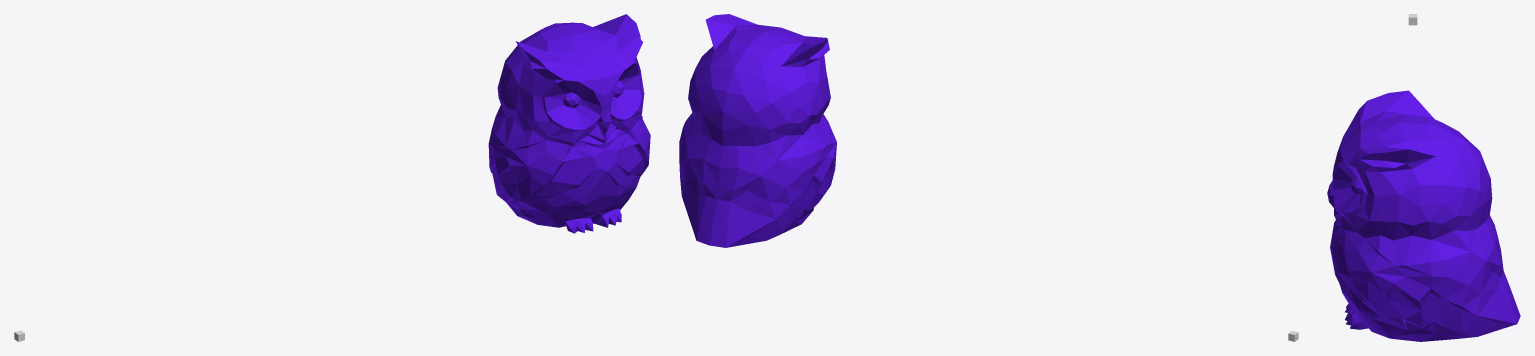
File: owl-web.glb
The picture shows the model from 3 angles, left to right: view 1: azimuth 30°, elevation 25°; view 2: azimuth 150°, elevation 25°; view 3: azimuth 270°, elevation 25°; orthographic projection. The views are drawn at different scales.
Parts seen in each view (by area): view 1: lowpolyowl; view 2: lowpolyowl; view 3: lowpolyowl.
Boxes of the visible parts, <box> form: lowpolyowl: <box>488,14,650,233</box>; lowpolyowl: <box>679,14,836,247</box>; lowpolyowl: <box>1327,90,1520,341</box>.
Bounding box in the file's own units: 183 × 51.37 × 45.49.
